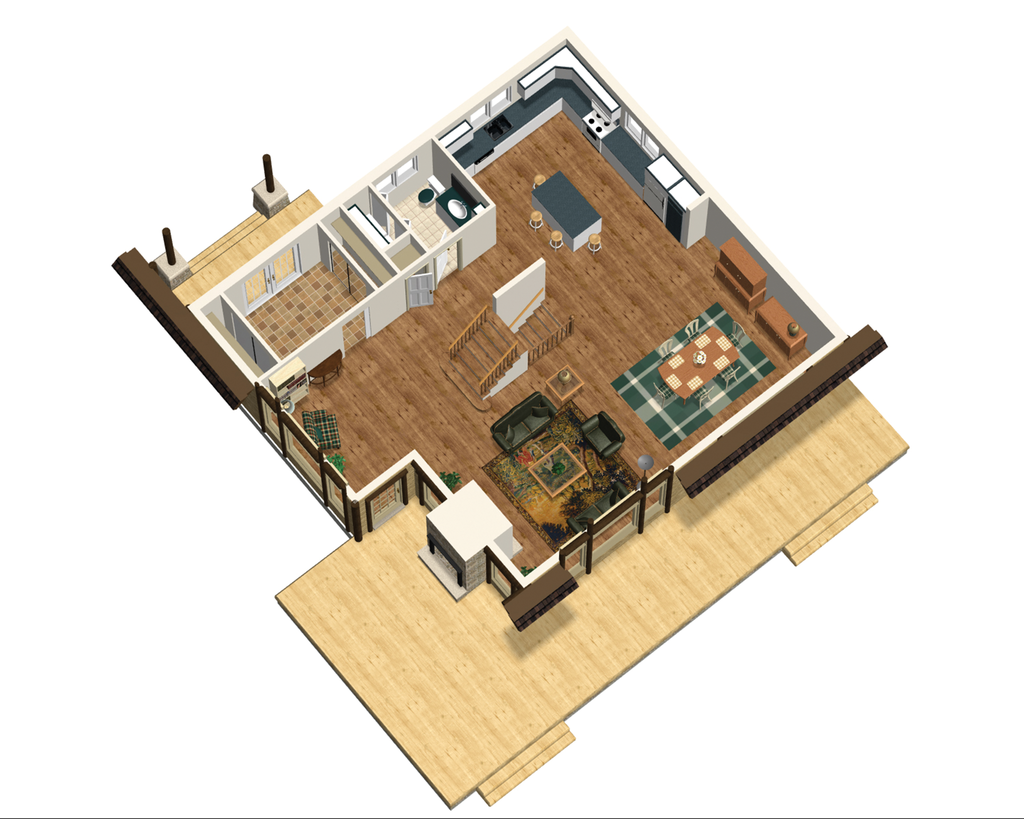dining_table: (640, 317, 748, 419)
kitchen_bar: (529, 164, 609, 253)
large_sofa: (483, 398, 568, 453), (573, 483, 634, 527)
small_sink: (442, 190, 472, 224)
small_sofa: (577, 404, 626, 457)
stairs: (396, 252, 577, 407)
twin_sink: (476, 108, 533, 160)
